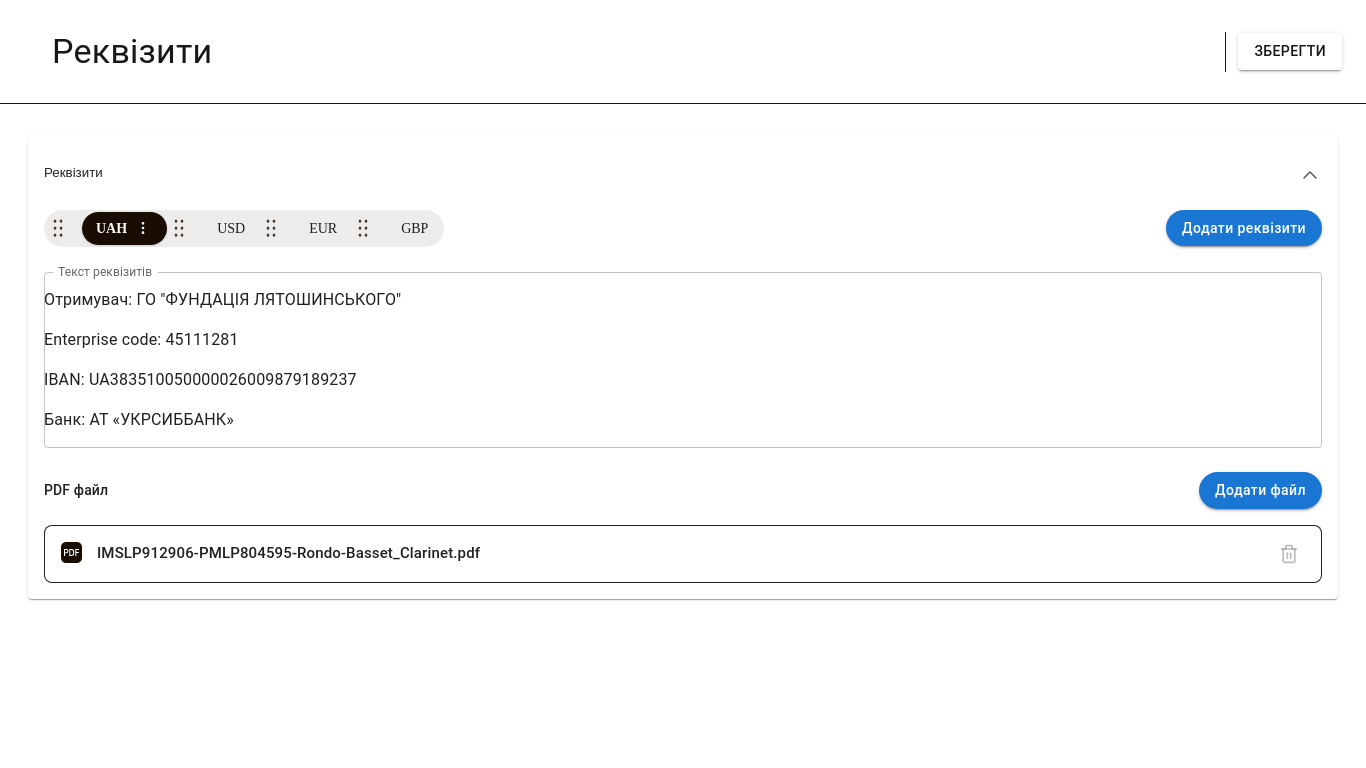
it: PaymentDetailsPageContent › falls back to the previous tab when the last active tab in the list is deleted
The image size is (1366, 768).
Click the button "GBP" at [415, 228], box x1=401 y1=218 x2=428 y2=238
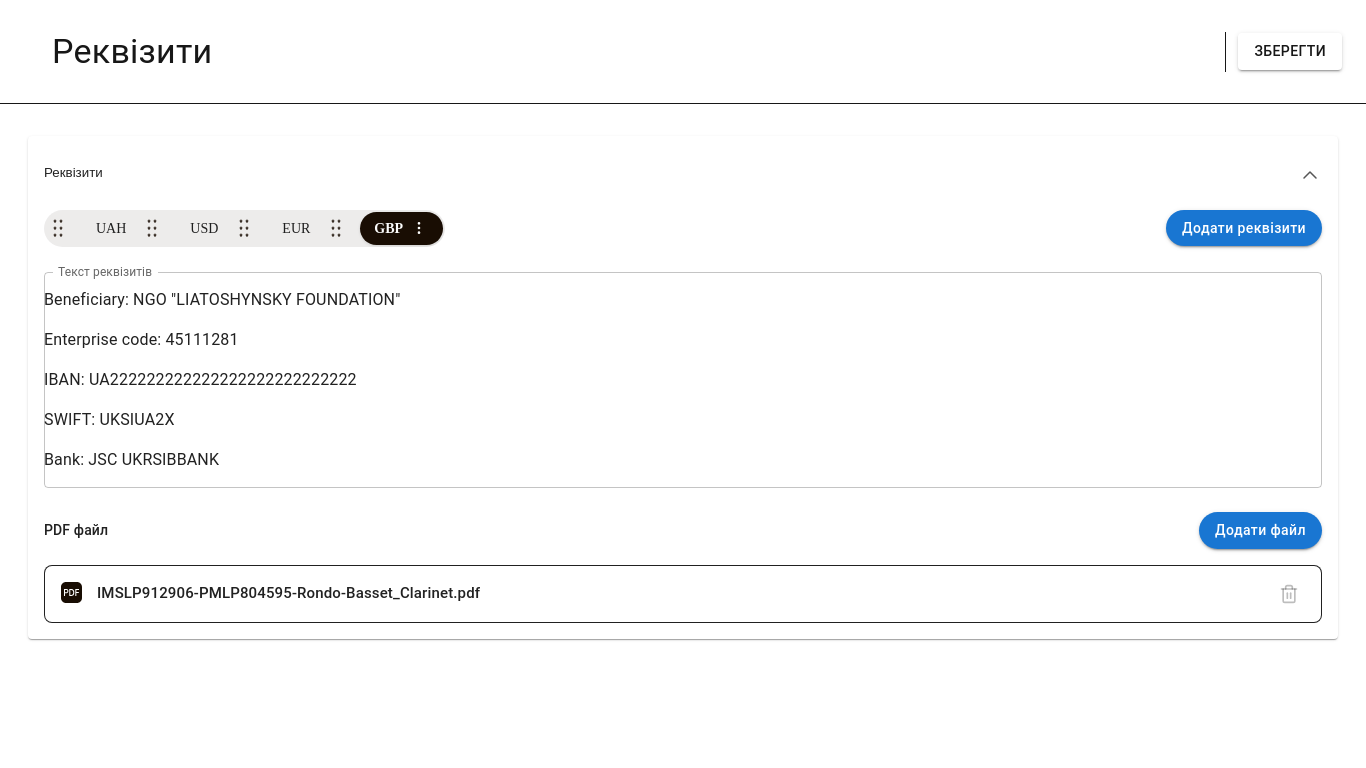
Click the button named "Опції реквізиту" at [419, 228], box x1=409 y1=218 x2=429 y2=238
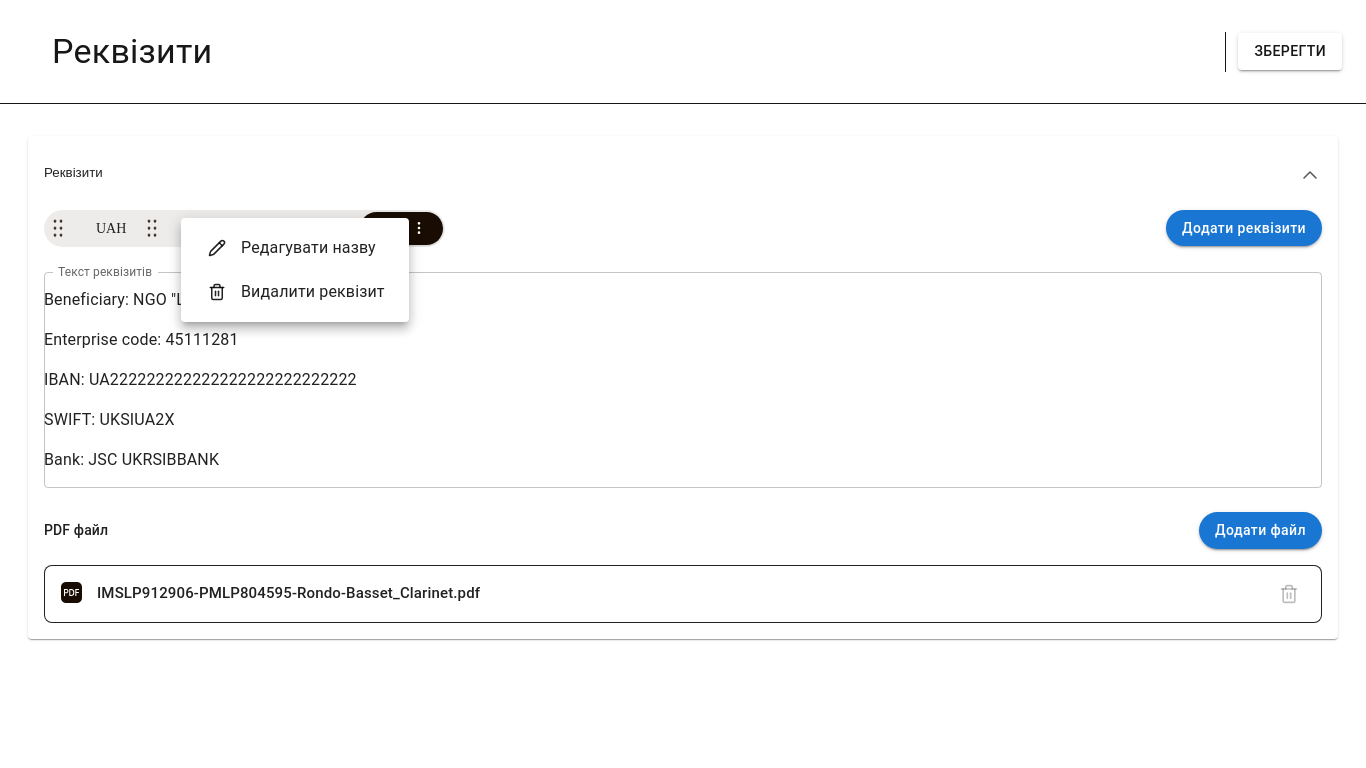
Click the menu item "Видалити реквізит" at [296, 292], box x1=208 y1=282 x2=385 y2=301
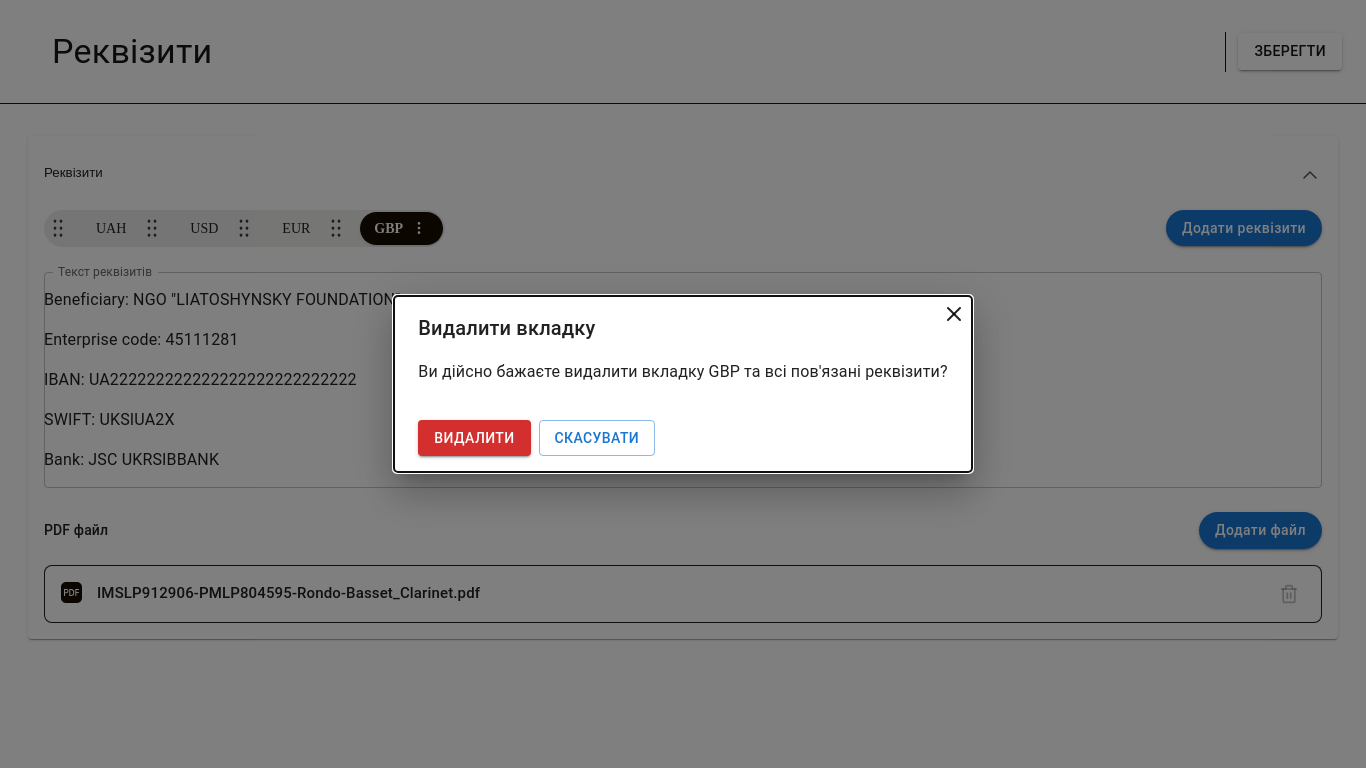
Click the button "Видалити" at [474, 438], box x1=418 y1=420 x2=530 y2=456
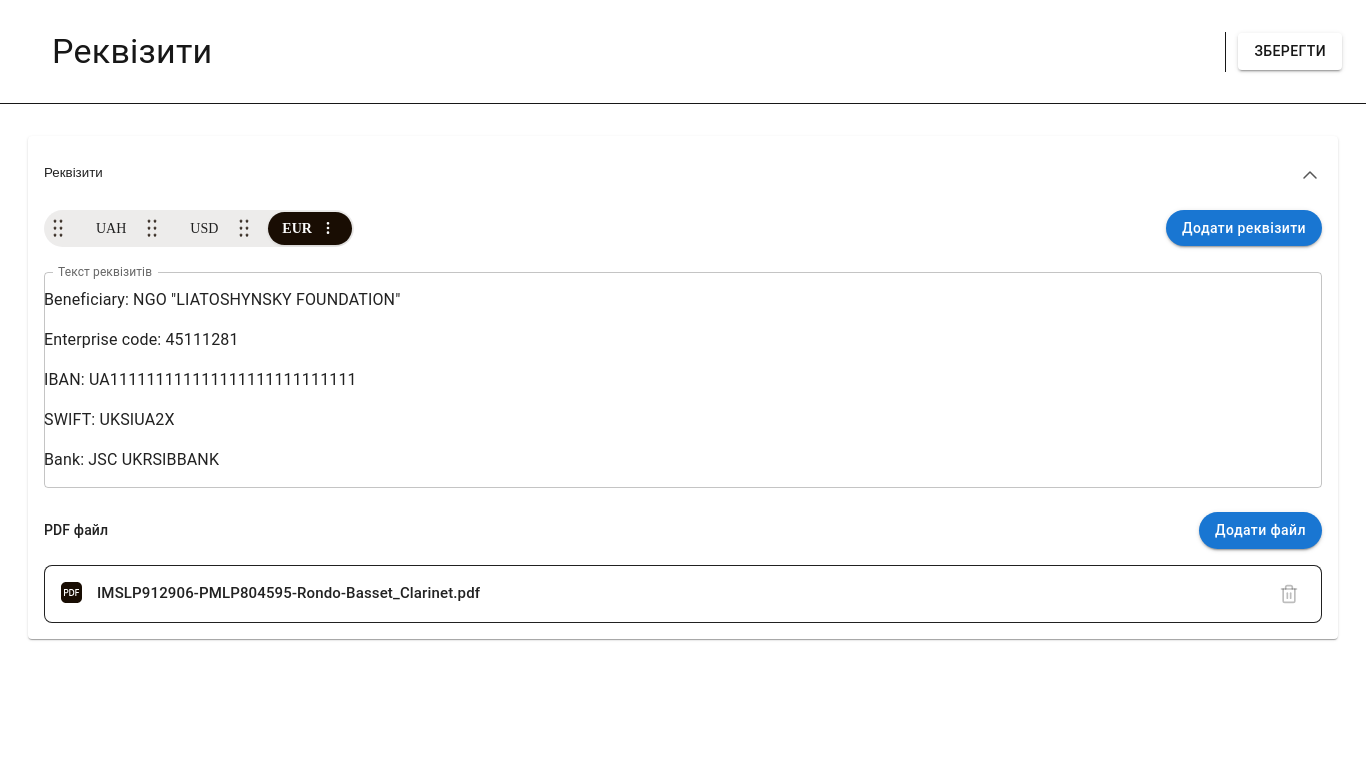
Check: the button "EUR" is shown, box x1=282 y1=218 x2=312 y2=238
Check: the heading "Видалити вкладку" is gone
Check: the button "GBP" is gone
